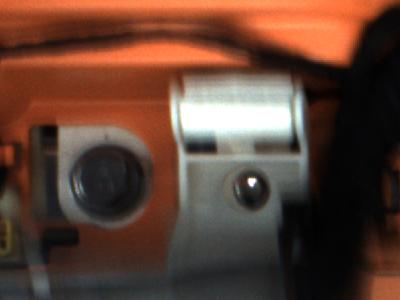nut_b: (64, 135, 153, 227)
